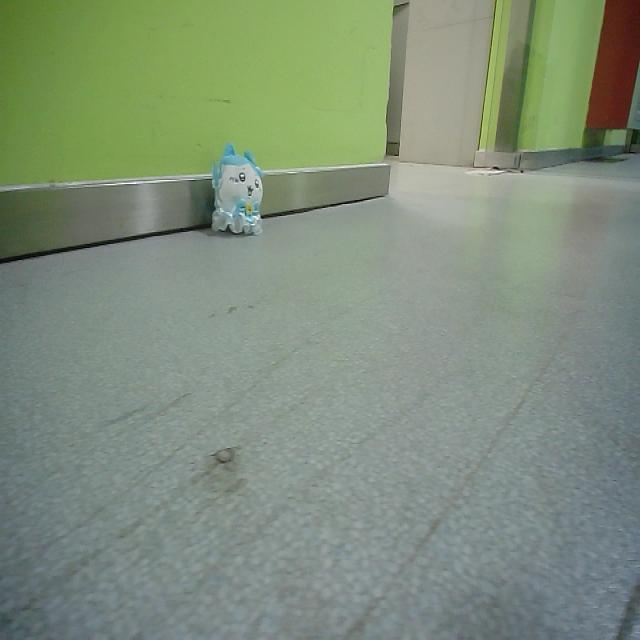xiaoba: (208, 139, 266, 236)
